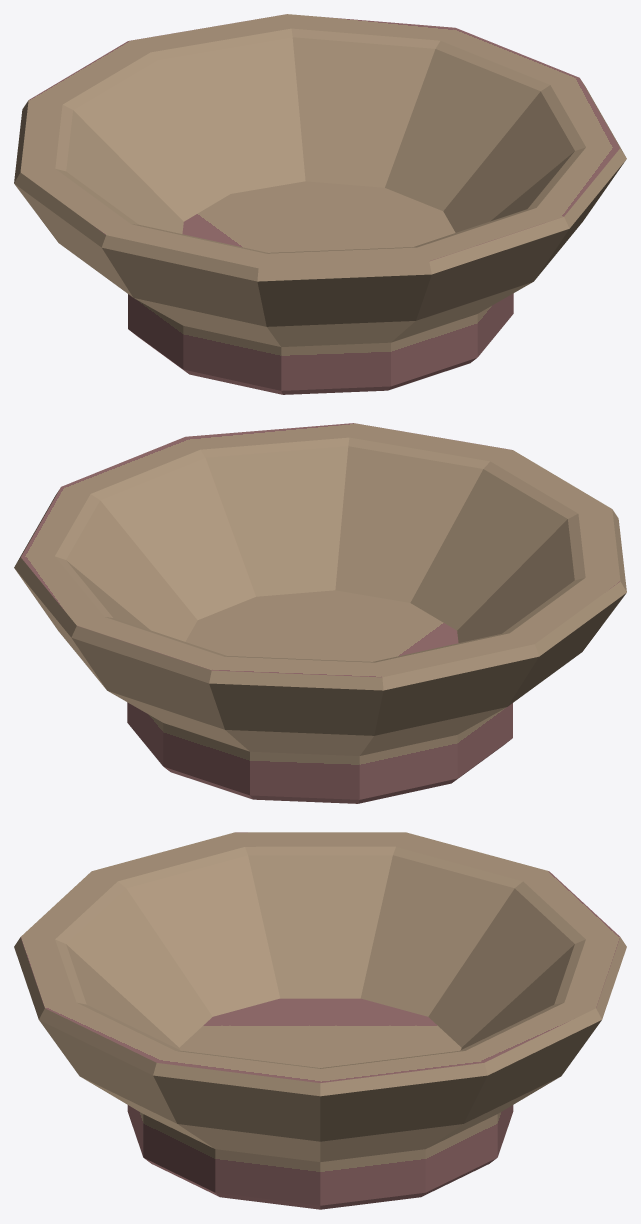
The model's file is chandelle_v01.fbx.
3 views of the same model, one above another, from view 1: azimuth 30°, elevation 25°; view 2: azimuth 150°, elevation 25°; view 3: azimuth 270°, elevation 25° (orthographic).
Parts seen in each view (by area): view 1: chandelle_v01_combine; view 2: chandelle_v01_combine; view 3: chandelle_v01_combine.
Boxes of the visible parts, <box> form: chandelle_v01_combine: <box>14,14,626,394</box>; chandelle_v01_combine: <box>14,423,626,803</box>; chandelle_v01_combine: <box>14,832,626,1209</box>.
Bounding box in the file's own units: 199 × 63.23 × 201.
Materials: 1 (1 with a texture image).
